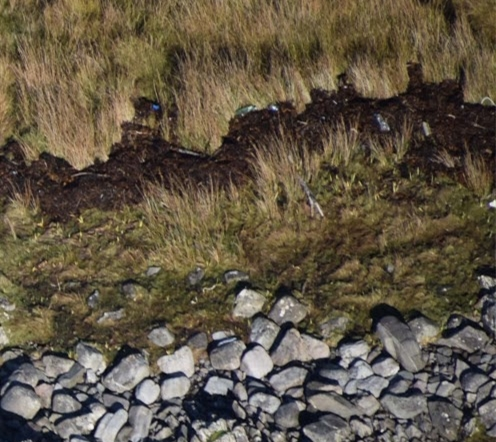scattered_barrel: (233, 93, 438, 144)
white_in_green: (130, 84, 185, 131)
